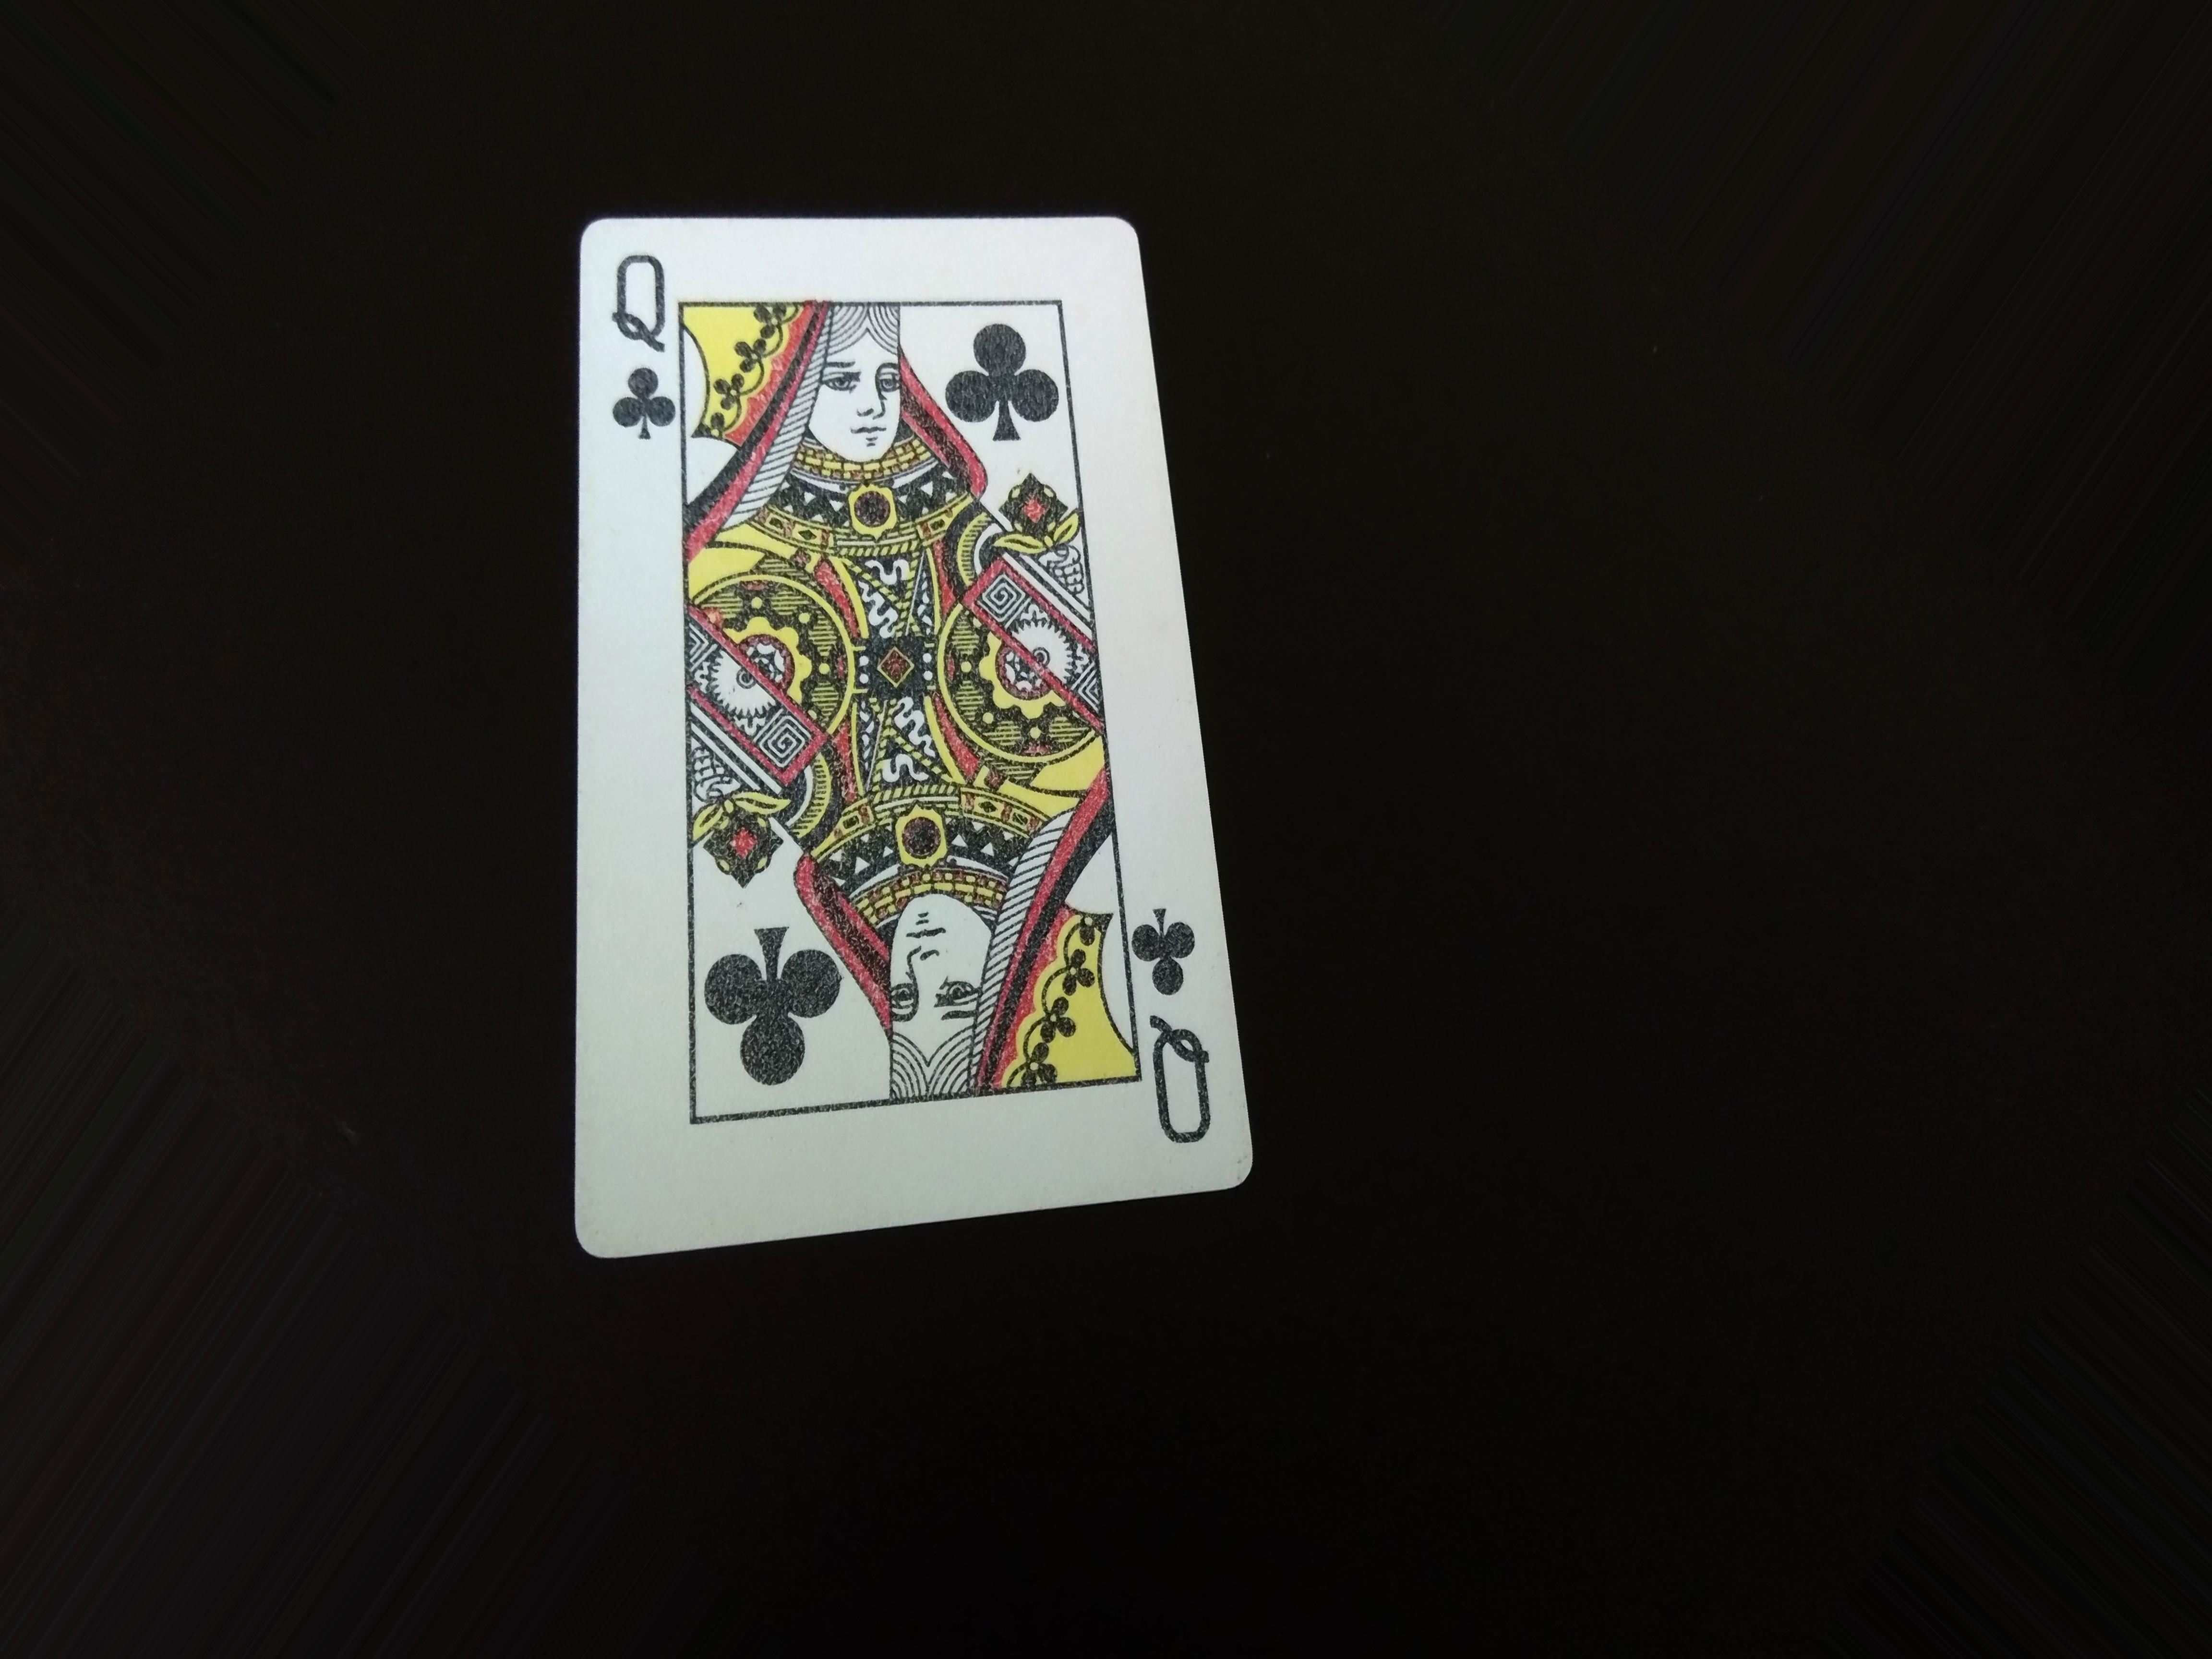QC: (1115, 899, 1226, 1154)
